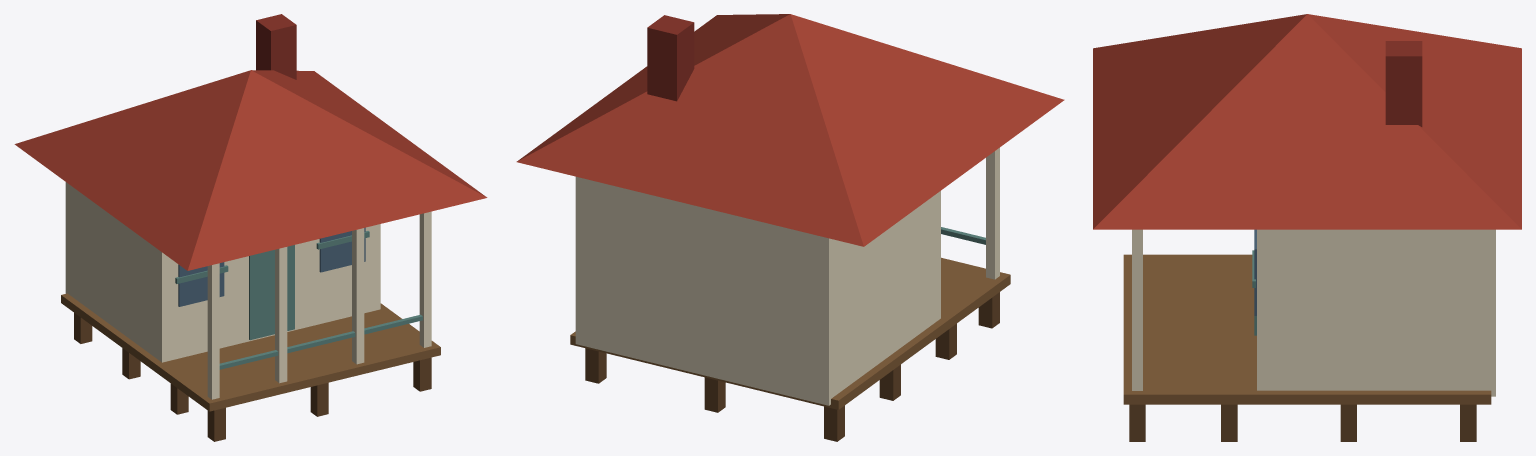
File: cottage.glb
3 views of the same model, side by side, from view 1: azimuth 30°, elevation 25°; view 2: azimuth 150°, elevation 25°; view 3: azimuth 270°, elevation 25° (orthographic). The views are drawn at different scales.
Visible parts, largest first — view 1: cottage2; view 2: cottage2; view 3: cottage2.
Boxes of the visible parts, bbox=[...] form: cottage2: bbox=[14, 14, 487, 441]; cottage2: bbox=[516, 14, 1064, 441]; cottage2: bbox=[1093, 14, 1521, 441].
Size of the model in its own units: 4.67 by 4.4 by 4.67.
